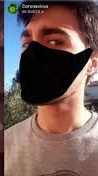with_mask: (16, 5, 98, 115)
